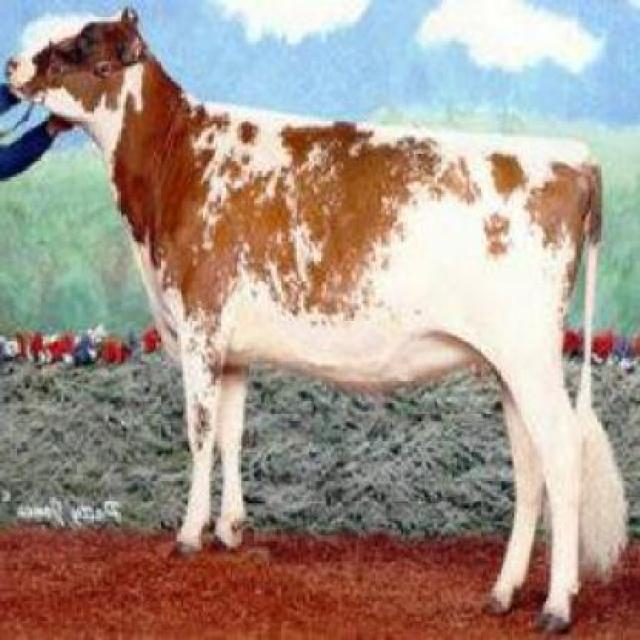Cow: (3, 3, 632, 639)
